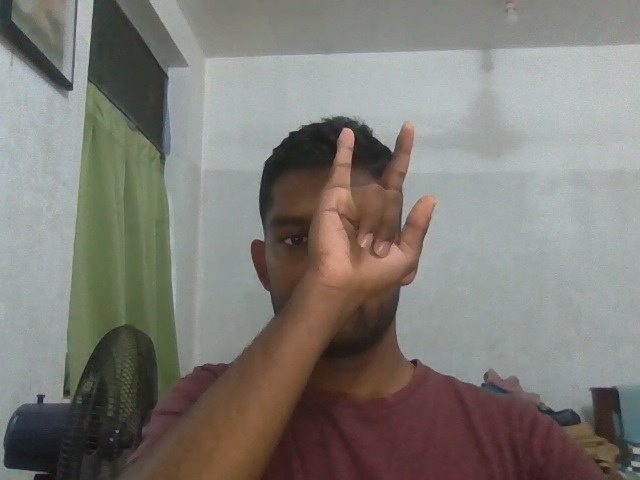hello: (303, 112, 447, 312)
